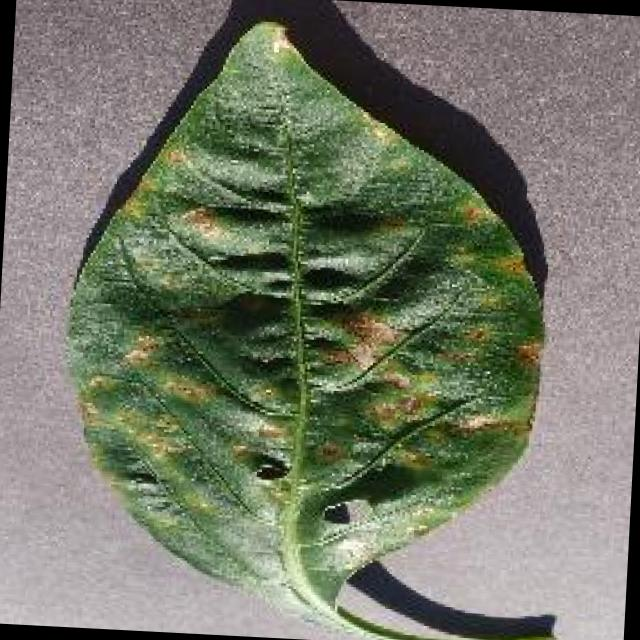Chilli_Bacterial_Spot: (46, 7, 590, 640), (324, 306, 446, 436), (330, 306, 403, 377), (154, 366, 220, 412), (227, 286, 286, 326), (117, 327, 164, 374), (176, 200, 224, 240), (389, 442, 436, 476), (307, 432, 349, 469), (261, 19, 298, 61), (364, 393, 401, 432), (316, 495, 356, 529), (248, 454, 290, 486), (510, 332, 544, 370), (81, 368, 120, 397), (160, 142, 192, 170), (456, 199, 486, 228), (459, 320, 490, 348)
